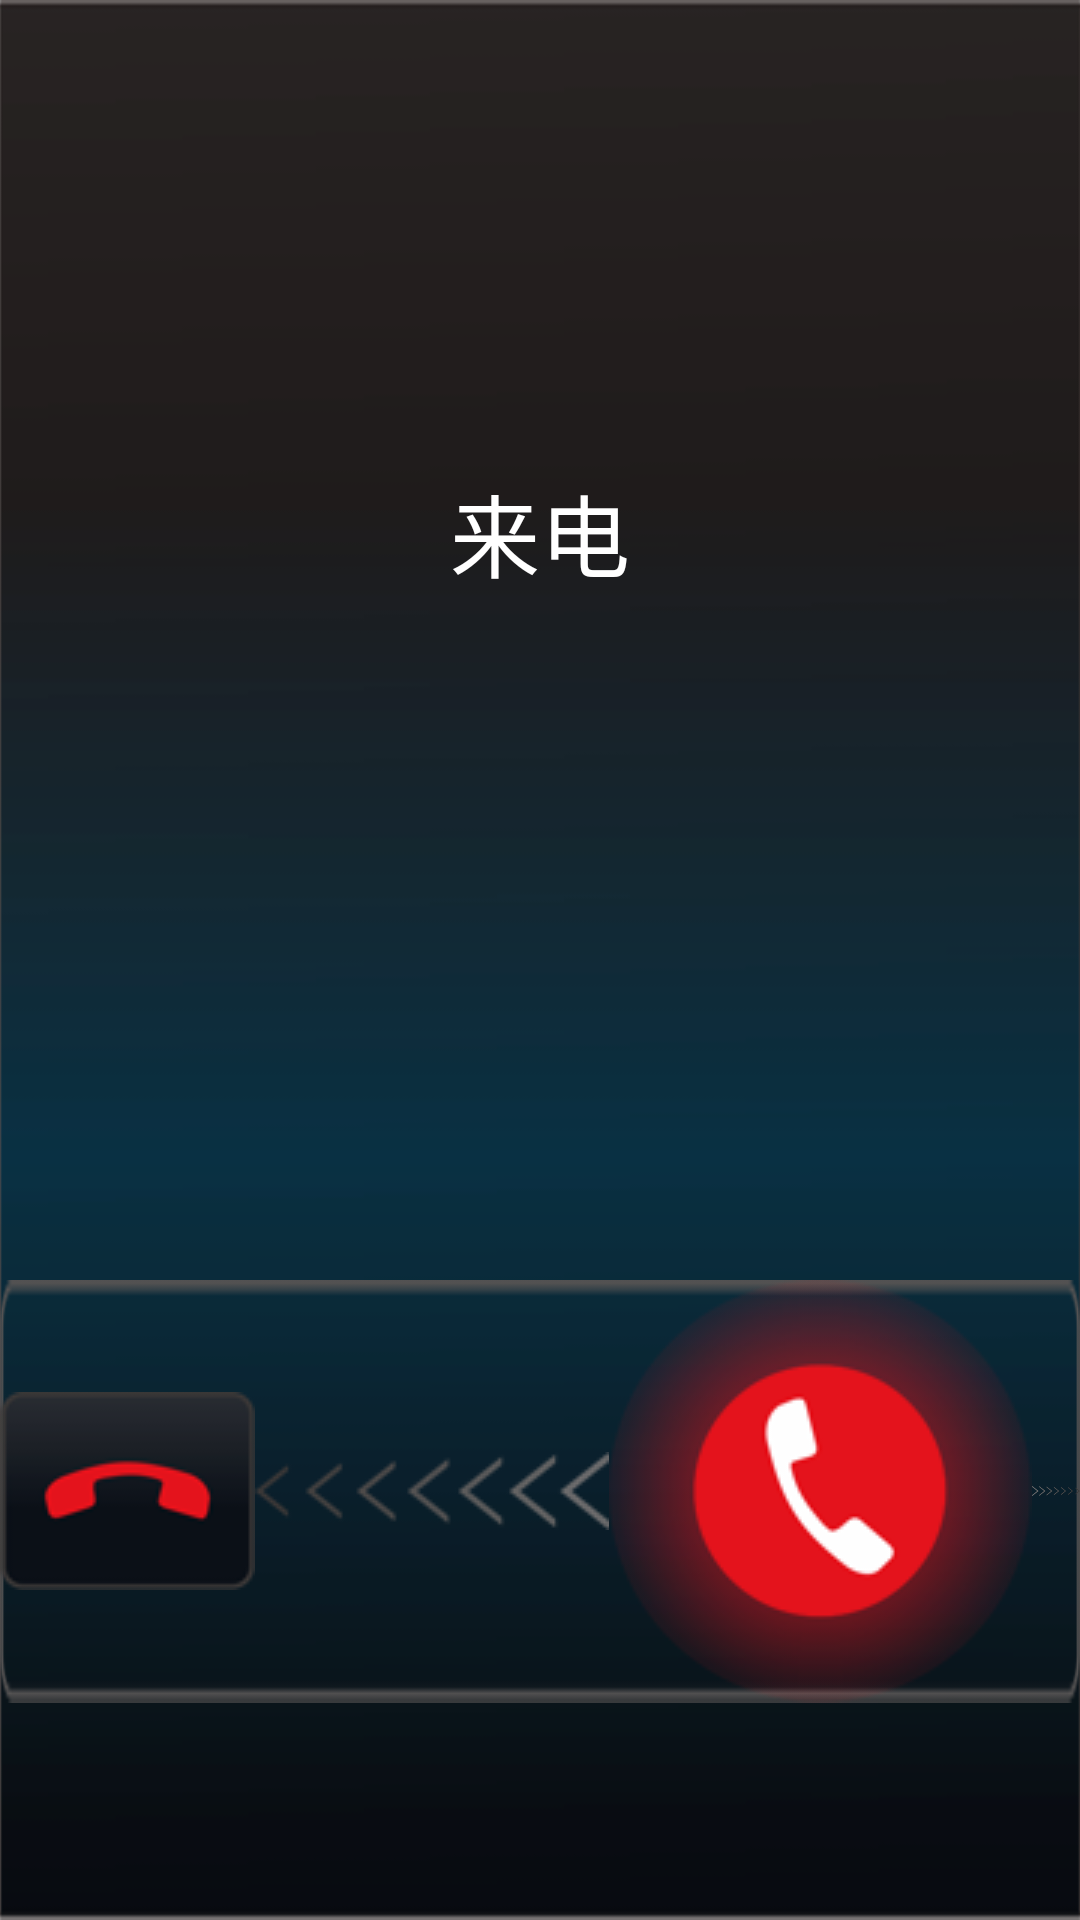

Where to tap for icons on this 1080w x 1920h app screen, as (x=x, y=y):
refuse call: (x=127, y=1491)
toleft arrow: (x=433, y=1491)
